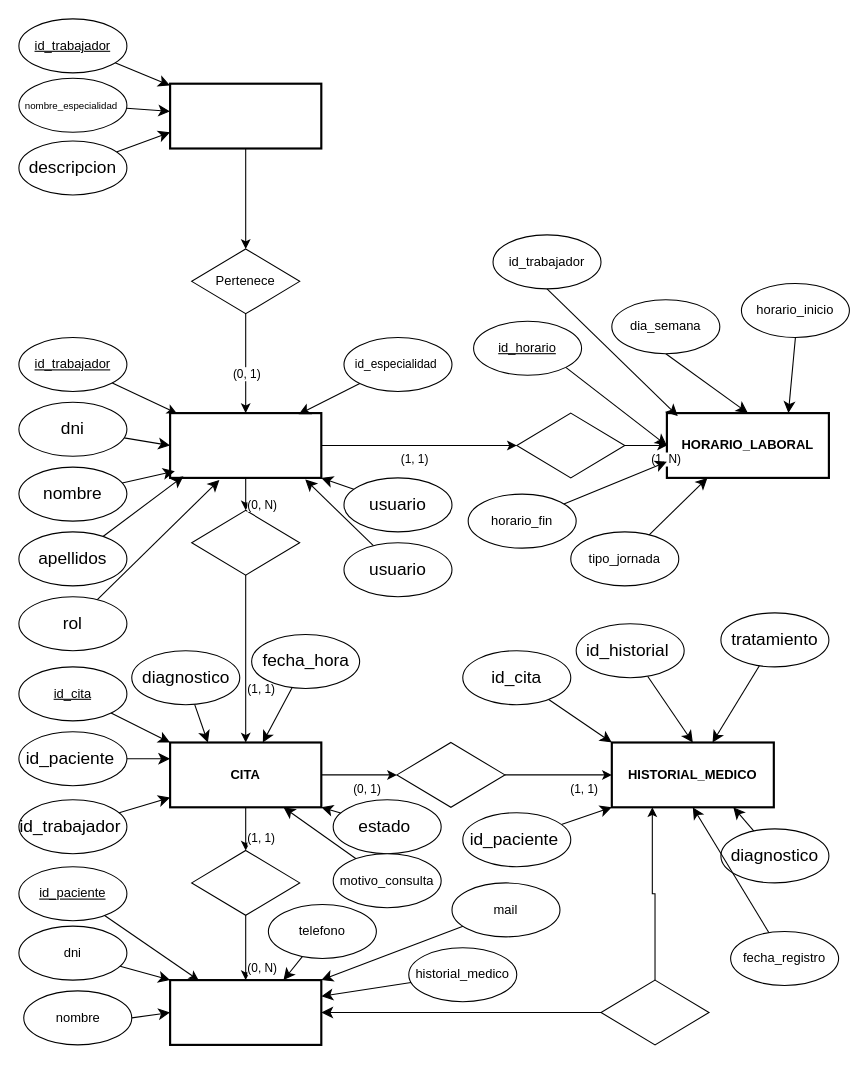
Some shapes in this 868 by 1065 pixel diagram are drawn without their labels. The centre of each missing label's shape, as x and y in pixels:
Asignado: [570,445]
Atiende: [245,542]
ESPECIALIDAD: [245,115]
Genera: [450,774]
PACIENTE: [245,1011]
Solicita: [245,882]
Tiene: [654,1012]
TRABAJADOR: [245,444]
